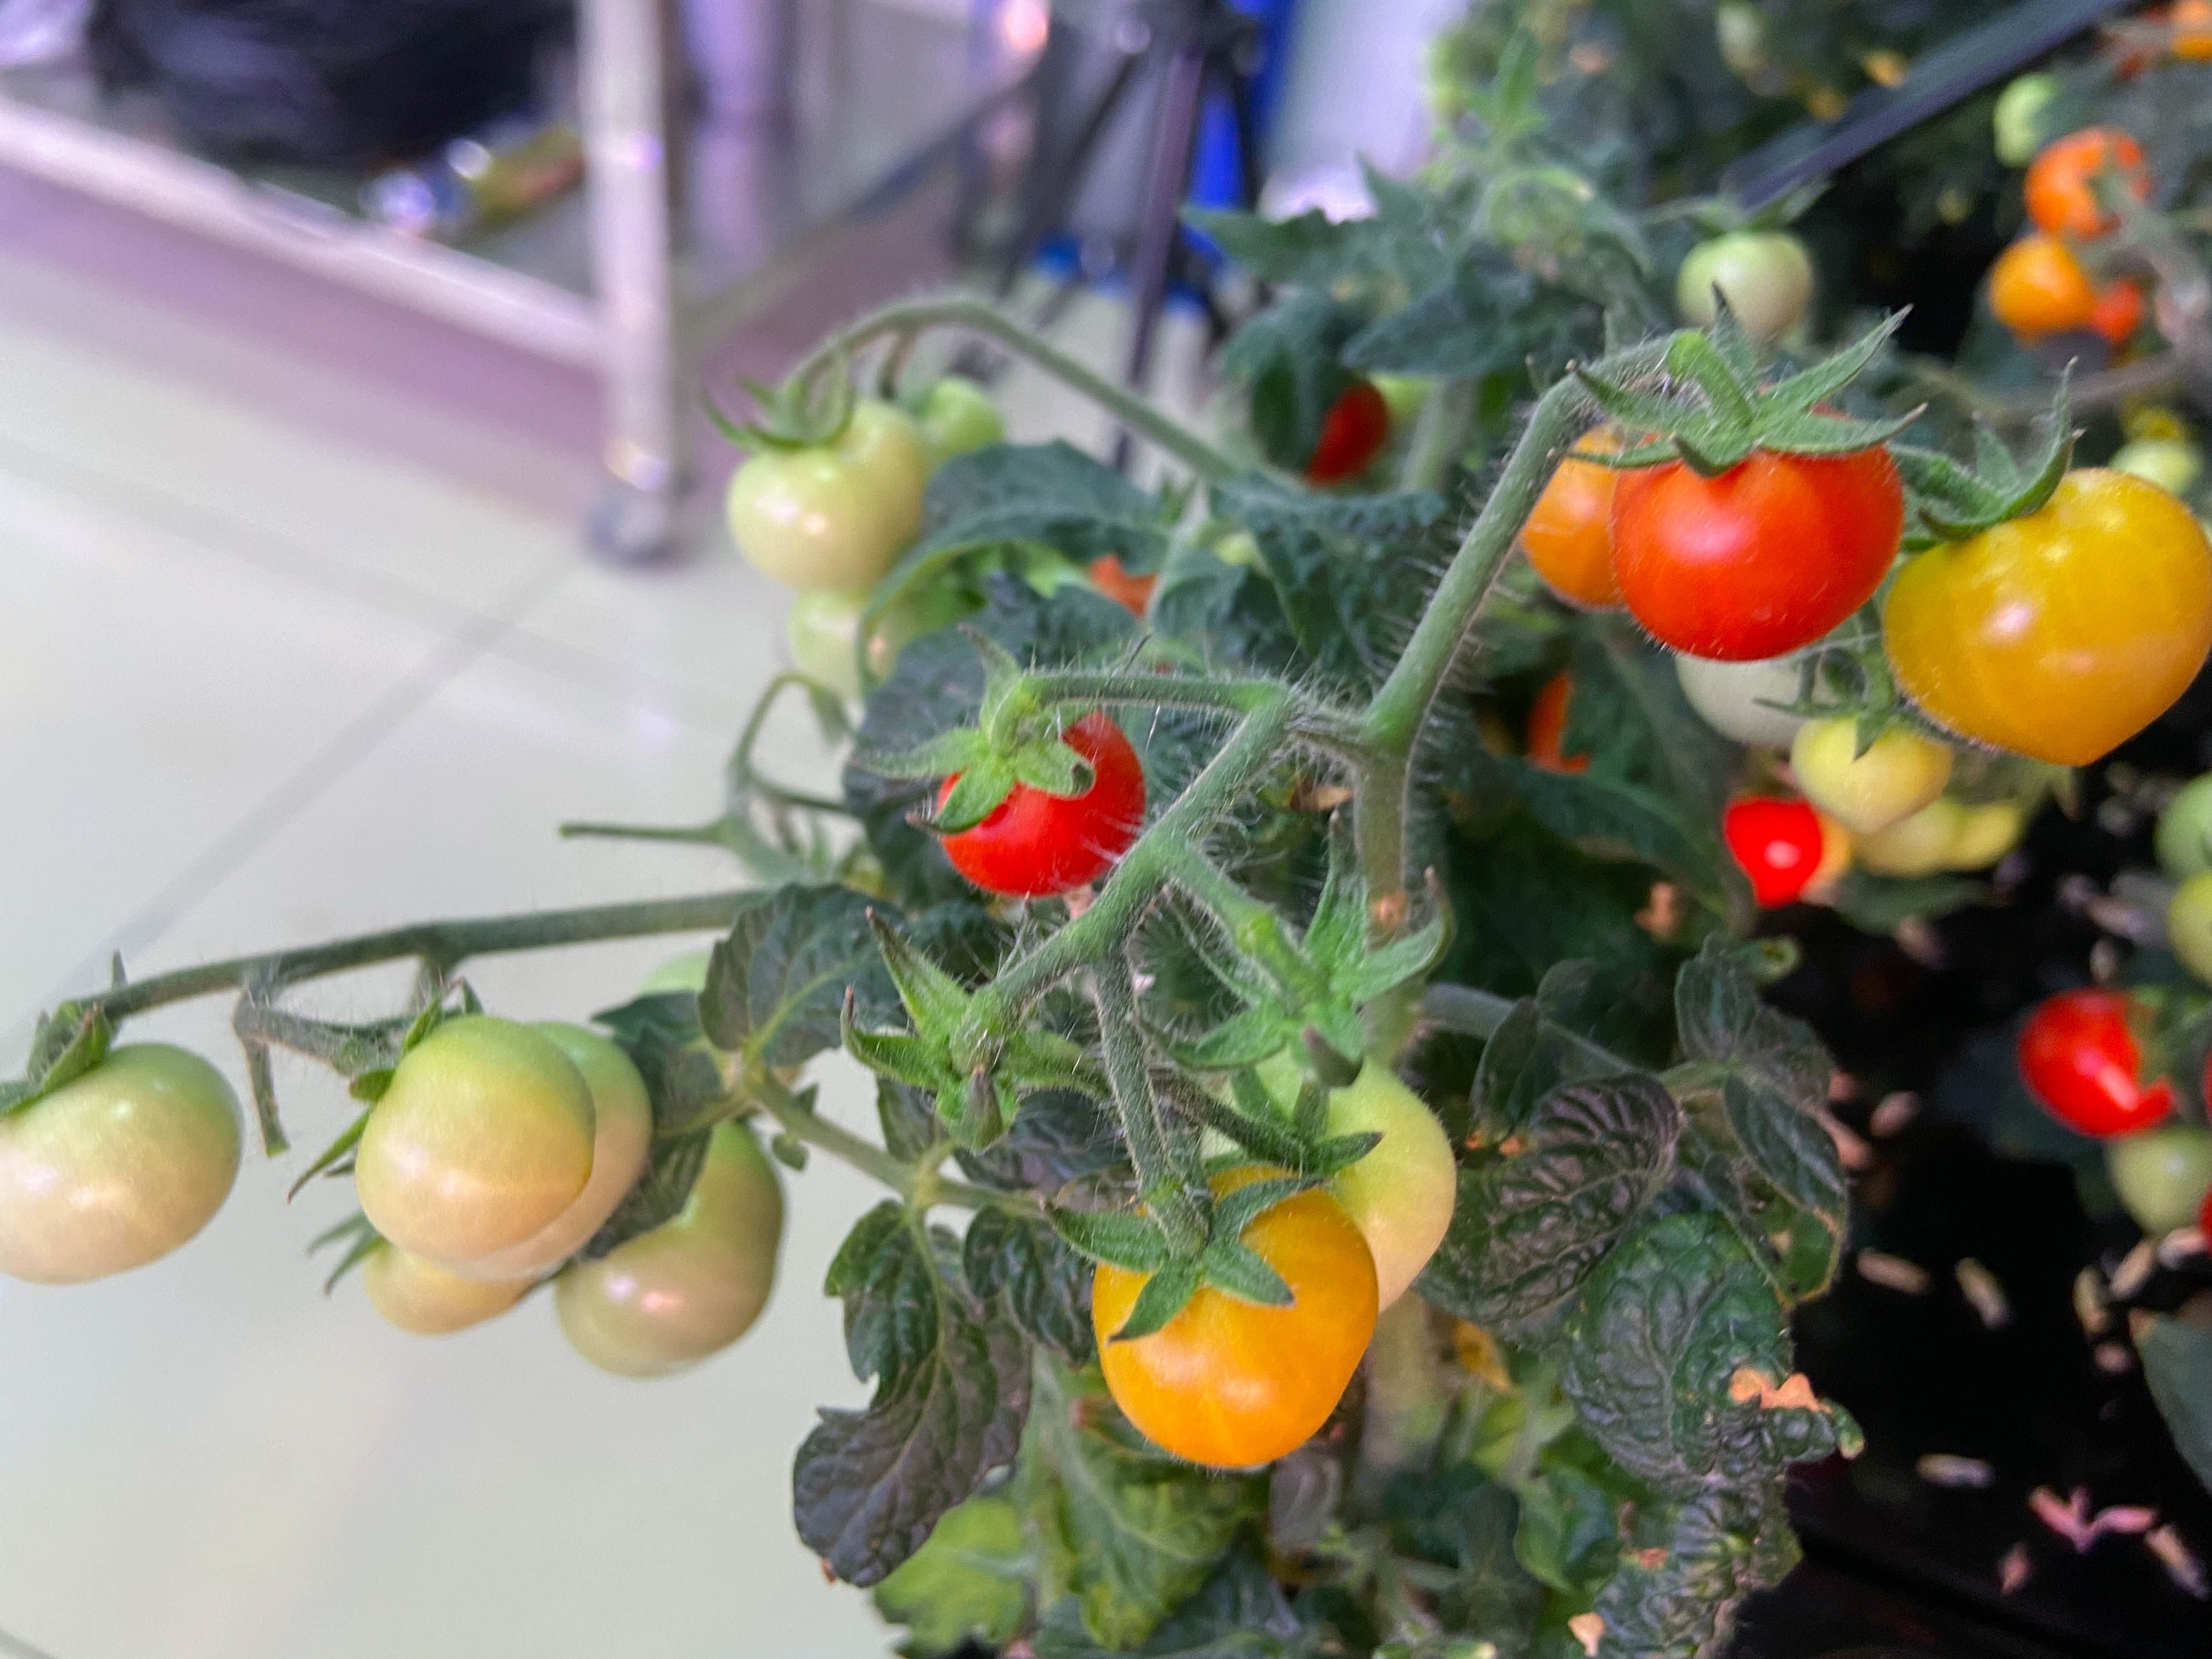green: (538, 1086, 782, 1380), (350, 1014, 624, 1265), (1212, 1049, 1458, 1310), (9, 1025, 254, 1286), (725, 399, 934, 592), (526, 1028, 657, 1239), (644, 939, 817, 1096), (361, 1208, 547, 1335), (1791, 697, 1956, 831), (1674, 636, 1848, 748), (1672, 220, 1813, 349), (792, 572, 928, 702), (890, 373, 1008, 495), (2107, 1117, 2212, 1229), (1991, 75, 2073, 166), (2155, 760, 2207, 890), (2113, 427, 2203, 502), (2151, 871, 2212, 976)
red: (1883, 464, 2212, 765), (1089, 1154, 1381, 1469), (1599, 408, 1904, 662), (935, 683, 1160, 899), (2017, 979, 2186, 1138), (1519, 430, 1667, 606), (1714, 789, 1831, 910), (2024, 125, 2148, 239), (1989, 235, 2094, 338), (1305, 380, 1392, 481), (1529, 683, 1609, 781), (1066, 552, 1172, 619), (2078, 275, 2144, 343)
